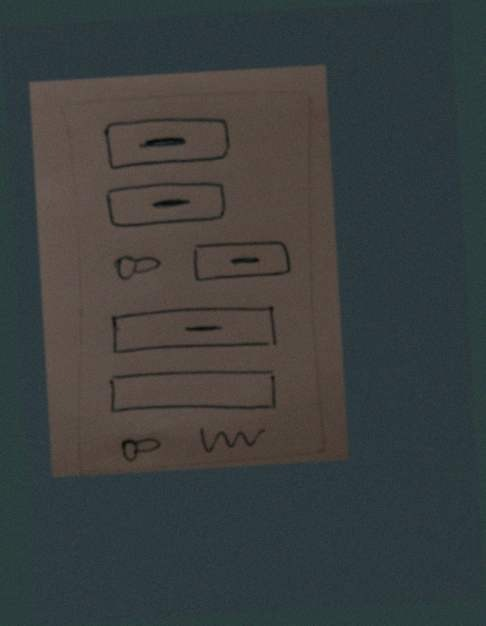button: (103, 300, 281, 358), (95, 107, 236, 177), (99, 172, 240, 242), (186, 233, 299, 284)
switch: (115, 430, 167, 465), (110, 247, 162, 282)
text: (195, 419, 270, 457)
text_input: (104, 361, 279, 422)
